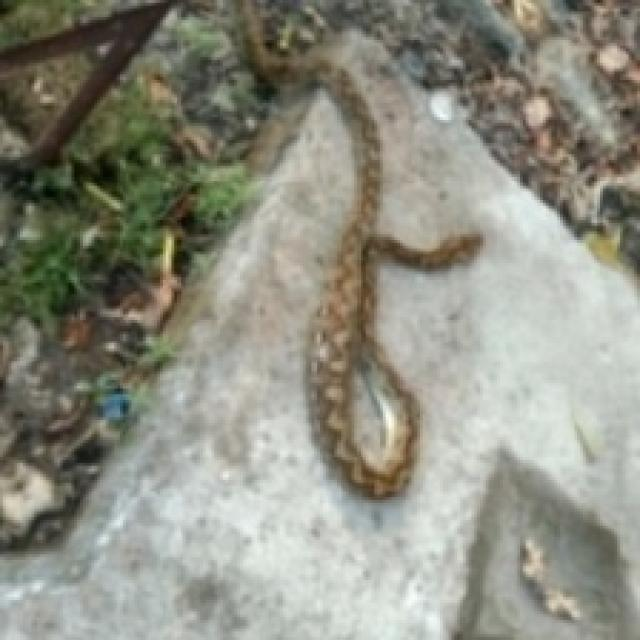reticulated python: (237, 0, 480, 494)
